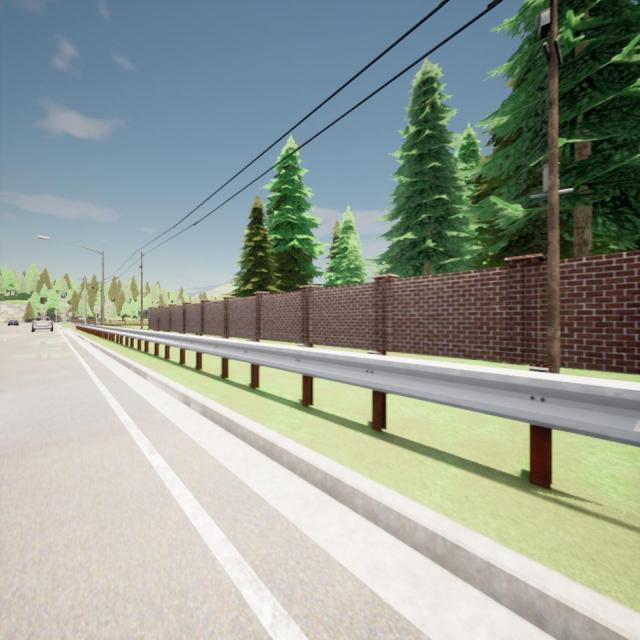Traffic_Signs: (94, 306, 99, 314), (68, 312, 72, 317)
Vehicle: (32, 317, 54, 332), (7, 319, 19, 326)
